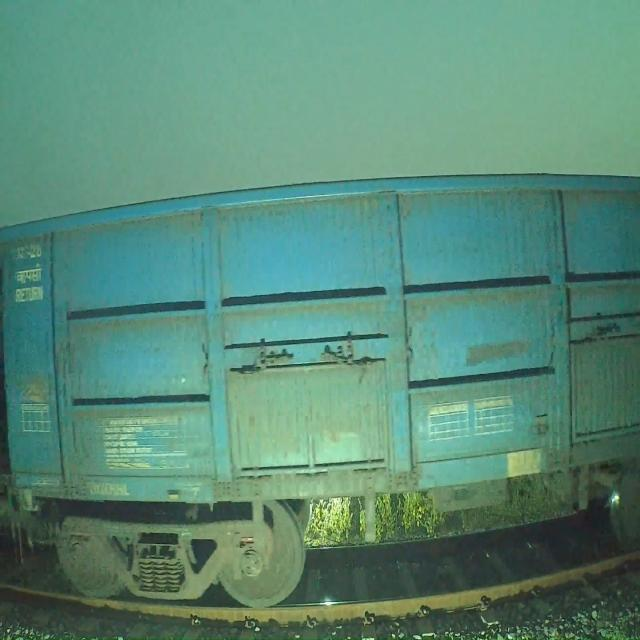WAgon-uic: (0, 168, 640, 613)
